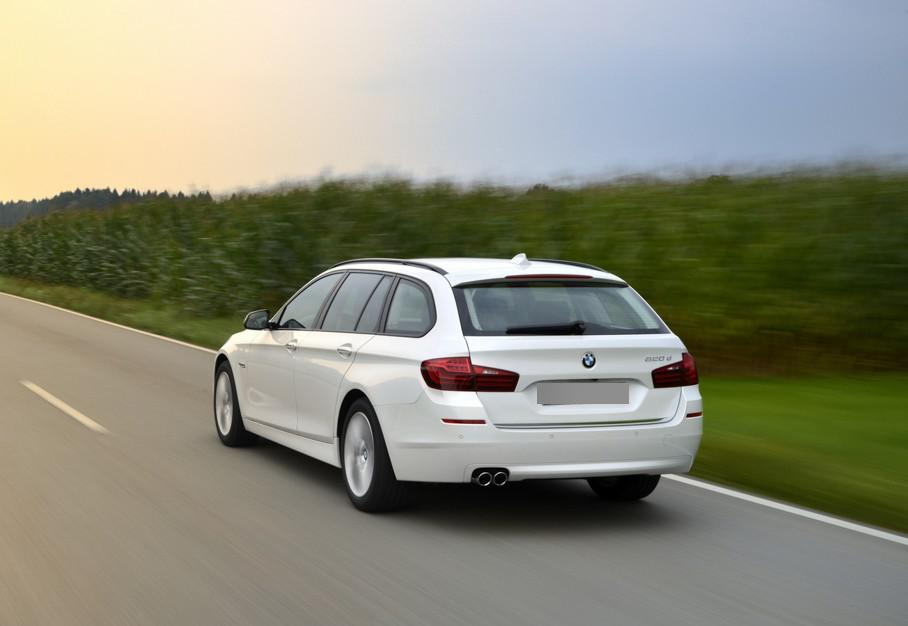Wagon: (213, 252, 706, 515)
